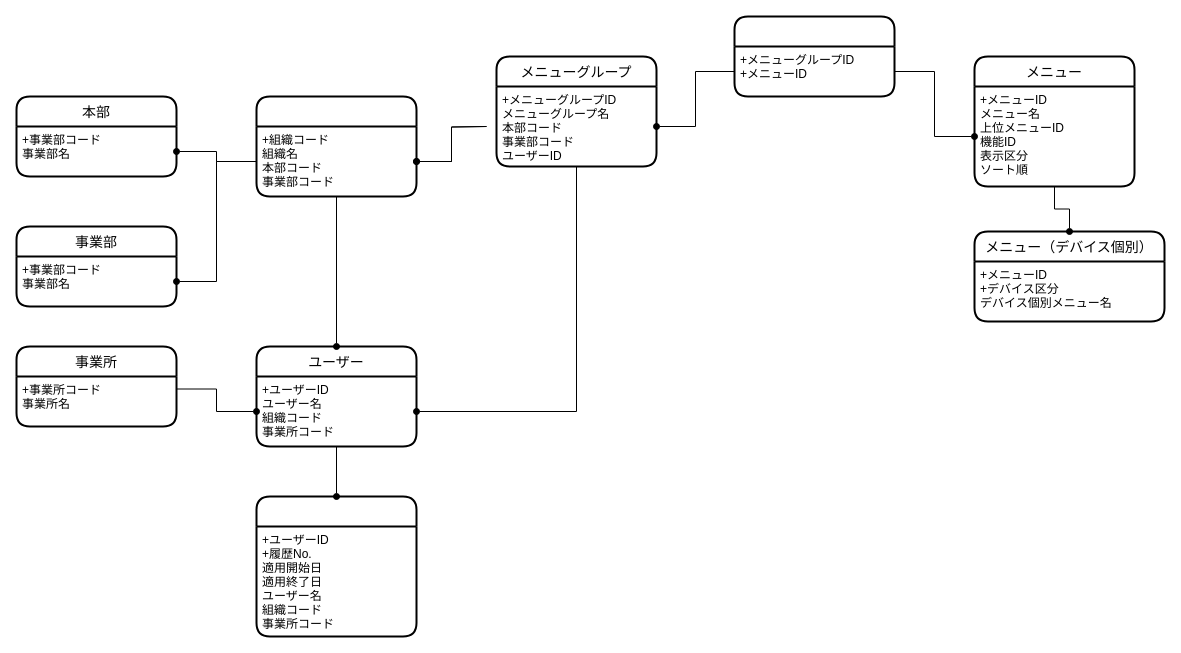
The diagram is 1181 pixels wide and 653 high, and some of its shapes have lost their labels. The box of each missing label's shape, as (x1, y1, x2, y2) in pixels:
メニューパターン: (733, 15, 895, 97)
ユーザー履歴: (255, 495, 417, 637)
組織: (255, 95, 417, 197)
